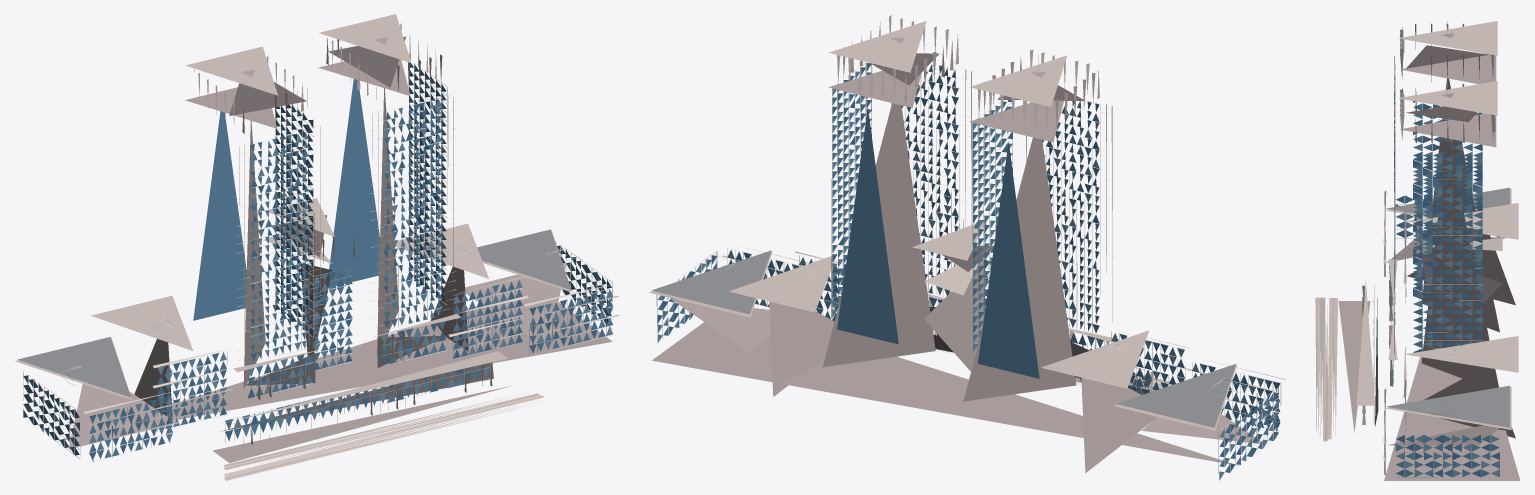
The picture shows the model from 3 angles, left to right: view 1: azimuth 30°, elevation 25°; view 2: azimuth 150°, elevation 25°; view 3: azimuth 270°, elevation 25°; orthographic projection. The views are drawn at different scales.
Visible parts, largest first — view 1: 光华楼 · Guanghua rose grey stone.002, 光华楼 · Guanghua light stone edges.002, 光华楼 · Guanghua blue glazing 1.002, 光华楼 · Guanghua blue glazing 0.002, 光华楼 · Guanghua blue glazing 2.002, 光华楼 · Guanghua blue glazing 3.002, 光华楼 · Guanghua curtain wall mullions.002, 光华楼 · Guanghua recessed bronze.002, 光华楼 · Guanghua roof.002; view 2: 光华楼 · Guanghua rose grey stone.002, 光华楼 · Guanghua blue glazing 1.002, 光华楼 · Guanghua light stone edges.002, 光华楼 · Guanghua roof.002, 光华楼 · Guanghua curtain wall mullions.002, 光华楼 · Guanghua blue glazing 3.002, 光华楼 · Guanghua blue glazing 2.002, 光华楼 · Guanghua blue glazing 0.002, 光华楼 · Guanghua recessed bronze.002; view 3: 光华楼 · Guanghua rose grey stone.002, 光华楼 · Guanghua light stone edges.002, 光华楼 · Guanghua blue glazing 0.002, 光华楼 · Guanghua roof.002, 光华楼 · Guanghua blue glazing 3.002, 光华楼 · Guanghua blue glazing 2.002, 光华楼 · Guanghua blue glazing 1.002, 光华楼 · Guanghua recessed bronze.002, 光华楼 · Guanghua curtain wall mullions.002.
Part boxes in pixels (<box>): 光华楼 · Guanghua rose grey stone.002: <box>56,37,612,462</box>; 光华楼 · Guanghua light stone edges.002: <box>15,14,619,480</box>; 光华楼 · Guanghua blue glazing 1.002: <box>23,72,612,456</box>; 光华楼 · Guanghua blue glazing 0.002: <box>23,69,612,460</box>; 光华楼 · Guanghua blue glazing 2.002: <box>23,62,612,458</box>; 光华楼 · Guanghua blue glazing 3.002: <box>23,64,612,458</box>; 光华楼 · Guanghua curtain wall mullions.002: <box>23,63,613,462</box>; 光华楼 · Guanghua recessed bronze.002: <box>220,36,493,431</box>; 光华楼 · Guanghua roof.002: <box>17,229,571,397</box>; 光华楼 · Guanghua rose grey stone.002: <box>652,37,1262,472</box>; 光华楼 · Guanghua blue glazing 1.002: <box>657,64,1279,466</box>; 光华楼 · Guanghua light stone edges.002: <box>649,15,1285,431</box>; 光华楼 · Guanghua roof.002: <box>651,250,1235,427</box>; 光华楼 · Guanghua curtain wall mullions.002: <box>656,34,1281,473</box>; 光华楼 · Guanghua blue glazing 3.002: <box>658,67,1280,472</box>; 光华楼 · Guanghua blue glazing 2.002: <box>657,65,1279,480</box>; 光华楼 · Guanghua blue glazing 0.002: <box>657,63,1280,472</box>; 光华楼 · Guanghua recessed bronze.002: <box>870,53,1150,392</box>; 光华楼 · Guanghua rose grey stone.002: <box>1338,33,1520,480</box>; 光华楼 · Guanghua light stone edges.002: <box>1315,21,1518,474</box>; 光华楼 · Guanghua blue glazing 0.002: <box>1394,63,1499,477</box>; 光华楼 · Guanghua roof.002: <box>1386,187,1509,427</box>; 光华楼 · Guanghua blue glazing 3.002: <box>1394,67,1499,477</box>; 光华楼 · Guanghua blue glazing 2.002: <box>1394,77,1499,477</box>; 光华楼 · Guanghua blue glazing 1.002: <box>1394,73,1499,477</box>; 光华楼 · Guanghua recessed bronze.002: <box>1375,45,1489,426</box>; 光华楼 · Guanghua curtain wall mullions.002: <box>1373,21,1482,477</box>.
Bounding box in the file's own units: 126 × 79.55 × 45.08.
